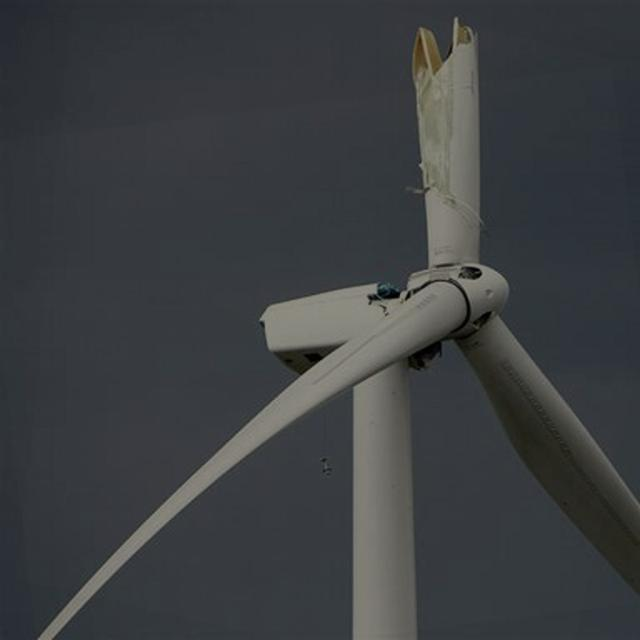crack: (379, 1, 514, 218)
